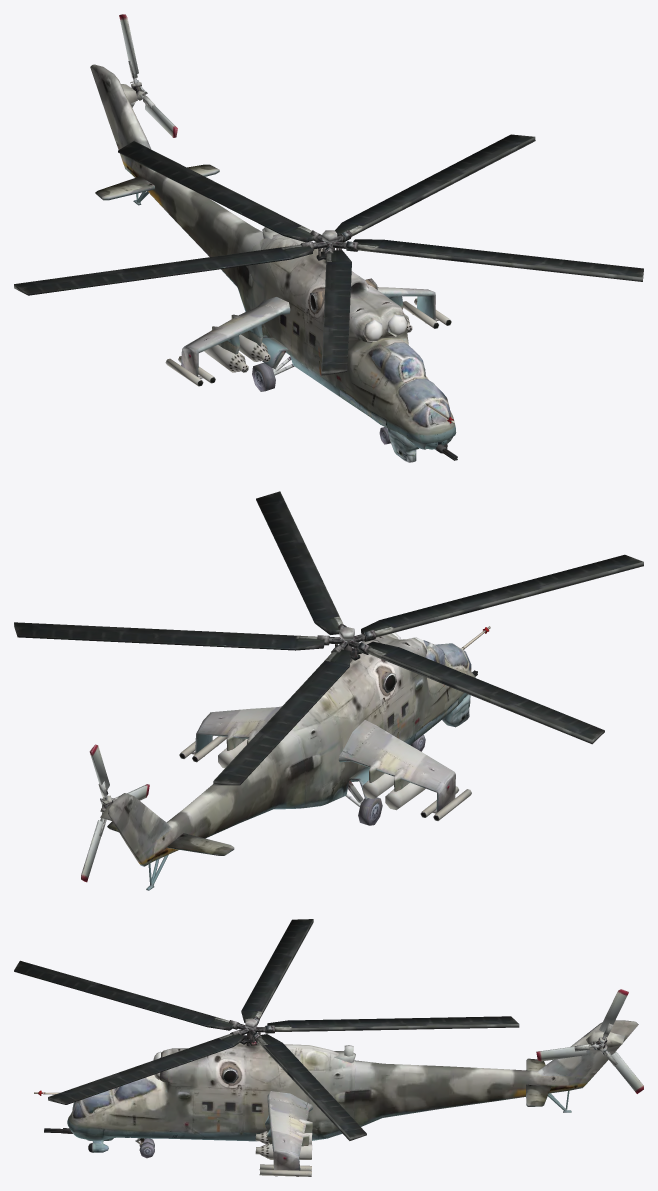
The picture shows the model from 3 angles, top to bottom: view 1: azimuth 30°, elevation 25°; view 2: azimuth 150°, elevation 25°; view 3: azimuth 270°, elevation 25°; orthographic projection. The views are drawn at different scales.
Parts seen in each view (by area): view 1: Body_lambert1_0, Top_Rotor_lambert1_0, Tail_Rotor_lambert1_0, R_Back_Wheel_lambert1_0; view 2: Body_lambert1_0, Top_Rotor_lambert1_0, Tail_Rotor_lambert1_0, R_Back_Wheel_lambert1_0; view 3: Body_lambert1_0, Top_Rotor_lambert1_0, Tail_Rotor_lambert1_0.
Part boxes in pixels (box(x1,y1,x2,y2)): Body_lambert1_0: box(90, 64, 457, 462); Top_Rotor_lambert1_0: box(14, 134, 643, 375); Tail_Rotor_lambert1_0: box(119, 14, 177, 137); R_Back_Wheel_lambert1_0: box(252, 351, 294, 391); Body_lambert1_0: box(100, 626, 490, 890); Top_Rotor_lambert1_0: box(14, 491, 643, 785); Tail_Rotor_lambert1_0: box(81, 744, 149, 882); R_Back_Wheel_lambert1_0: box(345, 780, 382, 825); Body_lambert1_0: box(34, 1020, 638, 1176); Top_Rotor_lambert1_0: box(14, 919, 519, 1140); Tail_Rotor_lambert1_0: box(536, 989, 643, 1093).
Bounding box in the file's own units: 13.06 × 4.86 × 15.97.
1 material, 1 textured.
